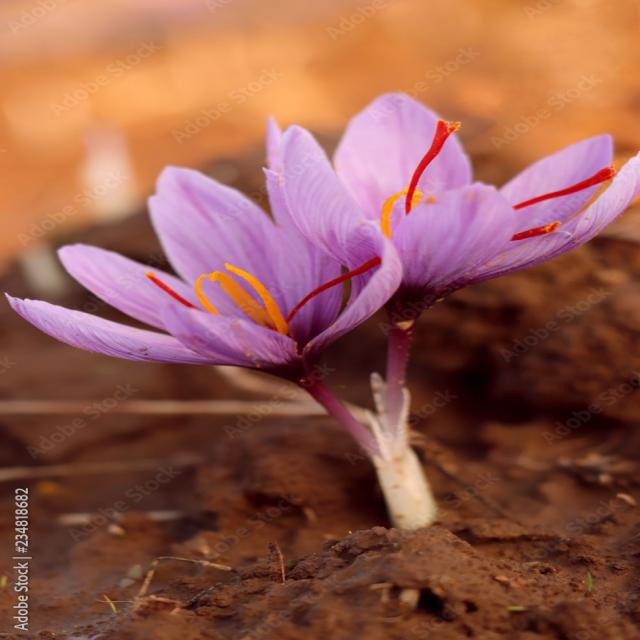saffron open: (14, 168, 401, 450), (279, 94, 639, 386)
